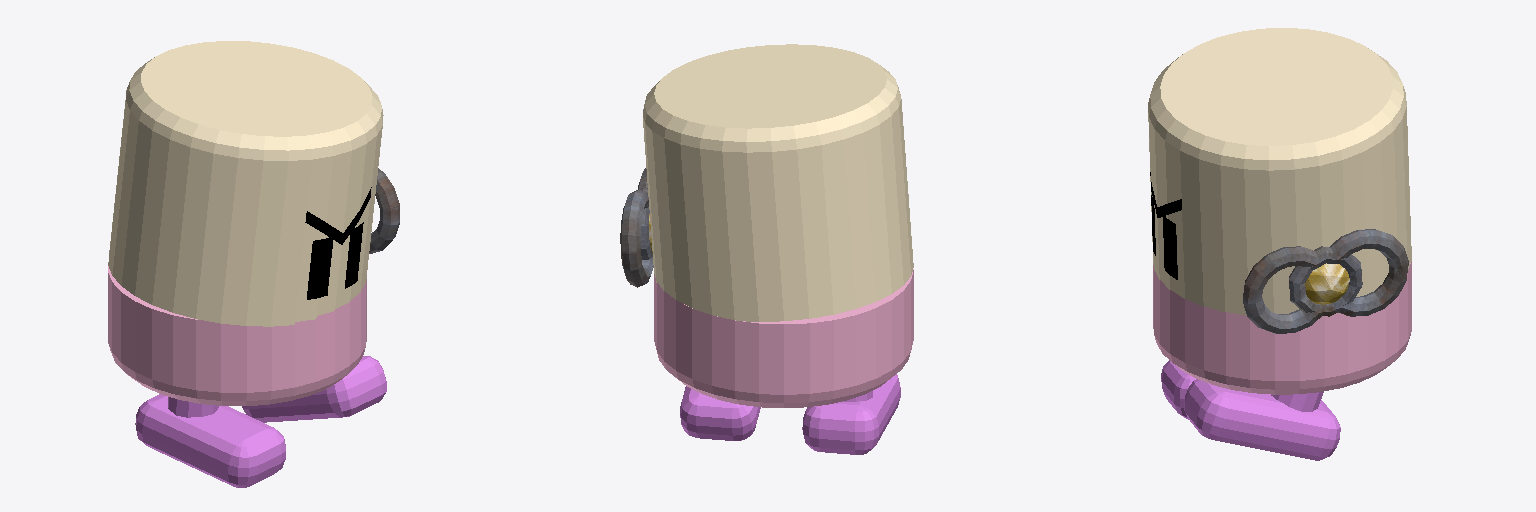
The picture shows the model from 3 angles: view 1: azimuth 30°, elevation 25°; view 2: azimuth 150°, elevation 25°; view 3: azimuth 270°, elevation 25°; orthographic projection.
Parts seen in each view (by area): view 1: Head, Jaw, RightLeg, LeftLeg, WindupKey; view 2: Head, Jaw, RightLeg, LeftLeg, WindupKey; view 3: Head, Jaw, WindupKey, LeftLeg, RightLeg.
Boxes of the visible parts, x1=… form: Head: x1=108, y1=41, x2=383, y2=326; Jaw: x1=108, y1=266, x2=366, y2=405; RightLeg: x1=135, y1=394, x2=285, y2=487; LeftLeg: x1=242, y1=356, x2=386, y2=422; WindupKey: x1=369, y1=168, x2=399, y2=253; Head: x1=643, y1=44, x2=913, y2=321; Jaw: x1=654, y1=269, x2=913, y2=407; RightLeg: x1=802, y1=374, x2=900, y2=454; LeftLeg: x1=680, y1=386, x2=760, y2=440; WindupKey: x1=620, y1=168, x2=653, y2=287; Head: x1=1148, y1=28, x2=1411, y2=315; Jaw: x1=1153, y1=261, x2=1411, y2=394; WindupKey: x1=1243, y1=229, x2=1408, y2=333; LeftLeg: x1=1184, y1=379, x2=1340, y2=460; RightLeg: x1=1161, y1=360, x2=1195, y2=419.
Size of the model in its own units: 115 by 152 by 102.
6 materials, 2 textured.